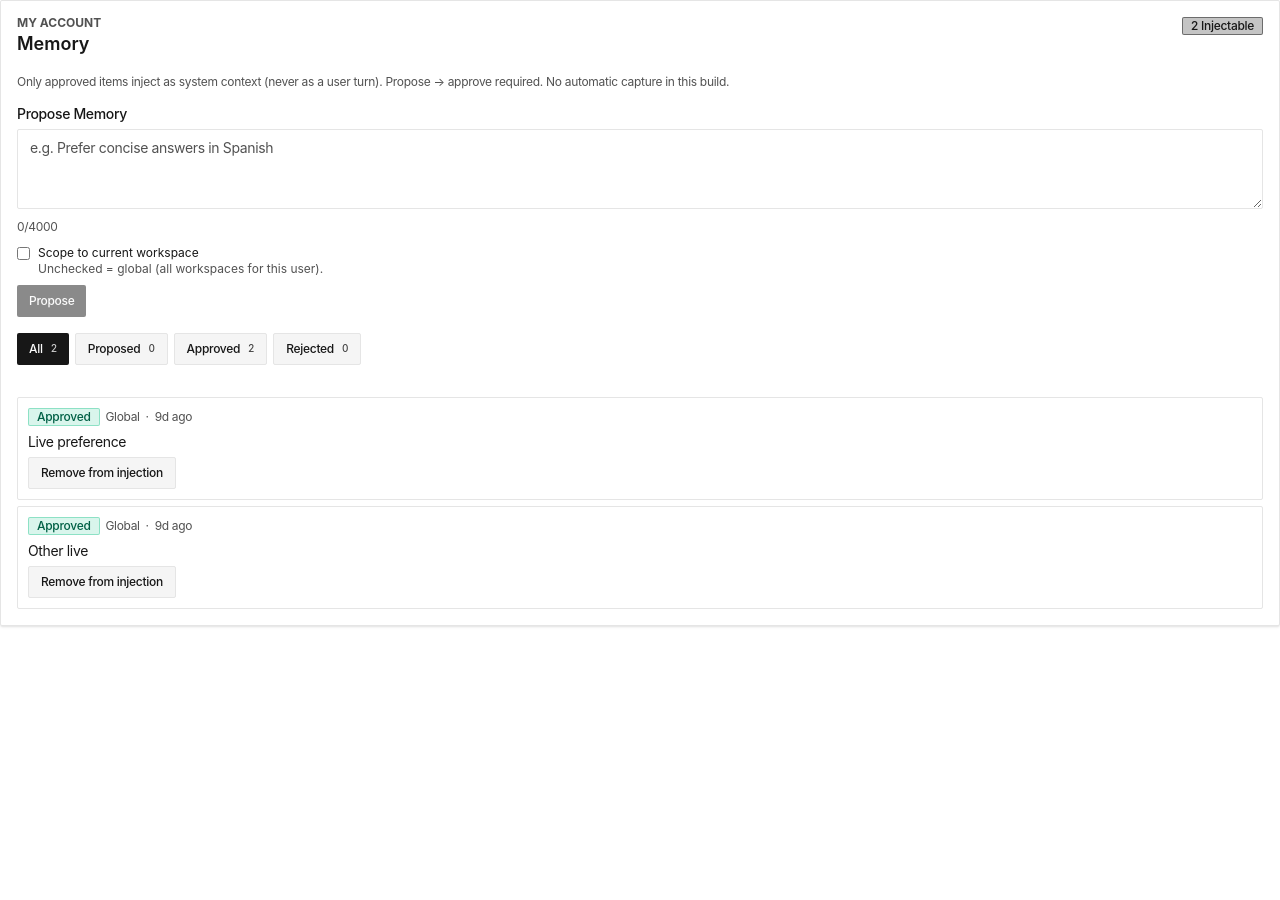
UserMemoryPanel › changing status filter clears the soft-remove Undo banner
The width and height of the screenshot is (1280, 900).
Expected: the text "Live preference" is shown, [28, 432, 126, 450]
Click the button "Remove from injection" below "Live preference" at (102, 473), box [28, 457, 176, 489]
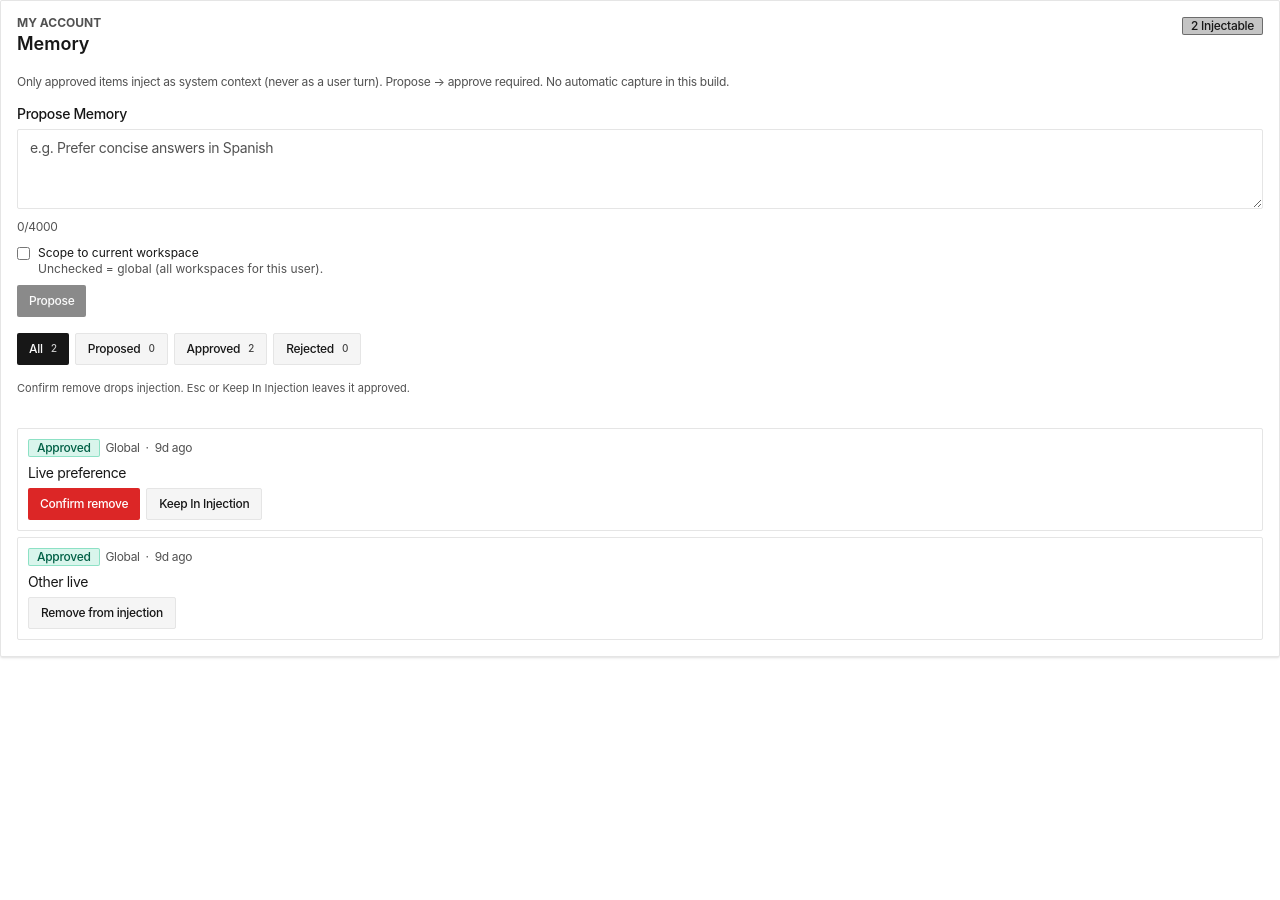
Click the button "Confirm remove" at (84, 504), box [28, 488, 140, 520]
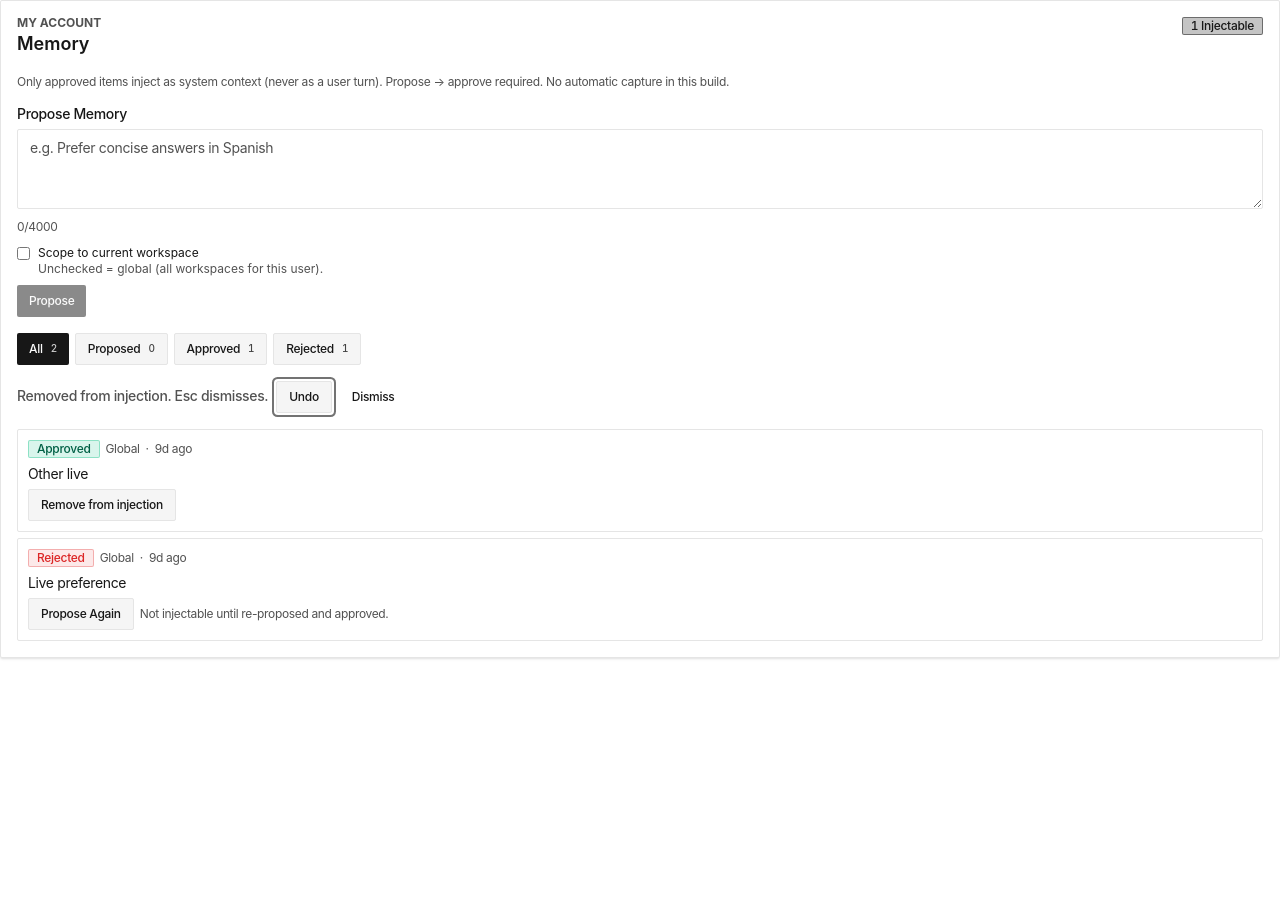
Expected: the text "Removed from injection. Esc dismisses." is shown, [17, 385, 268, 408]
Click the button "All 2" at (43, 348), box [17, 332, 69, 364]
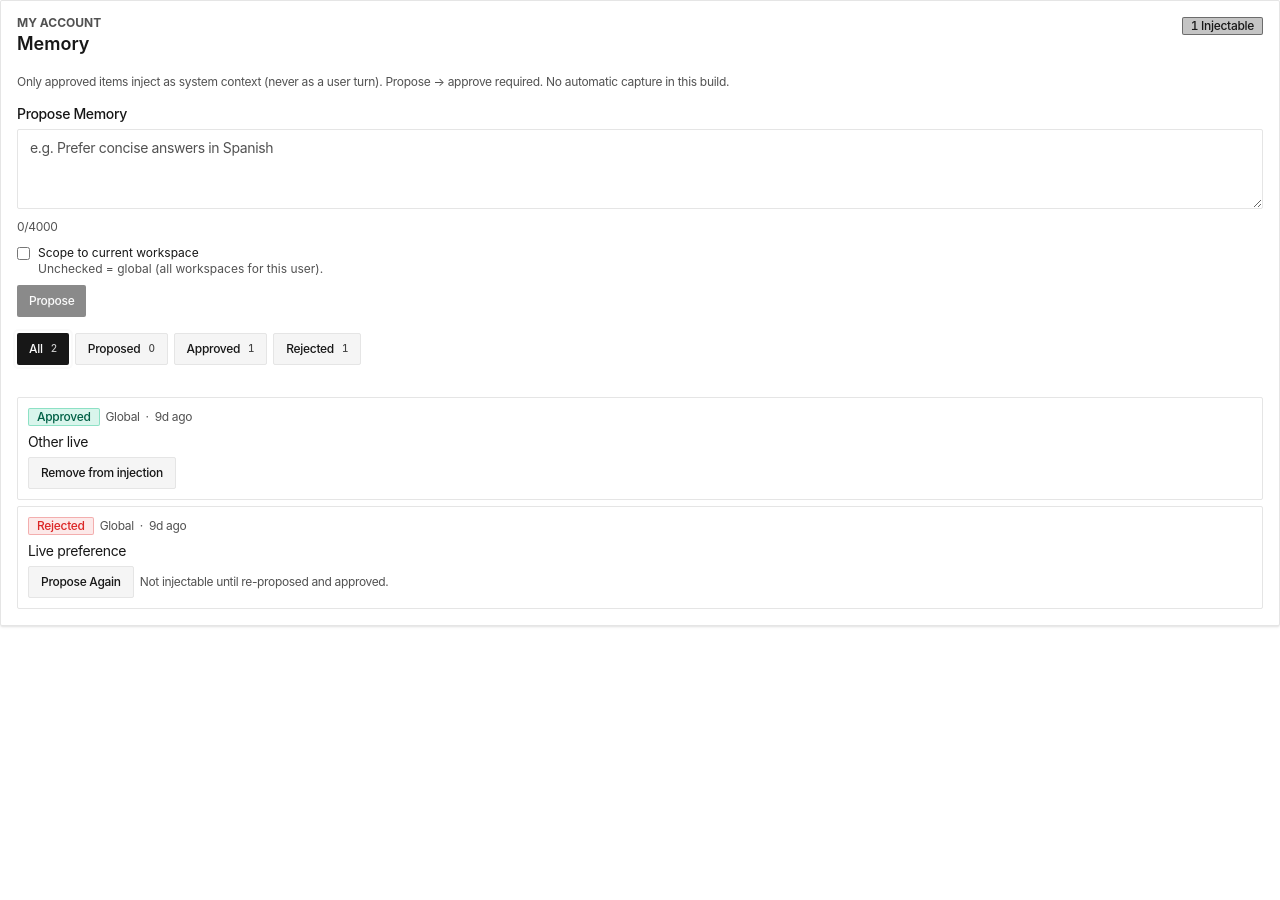
Expected: the text "Removed from injection" is gone
